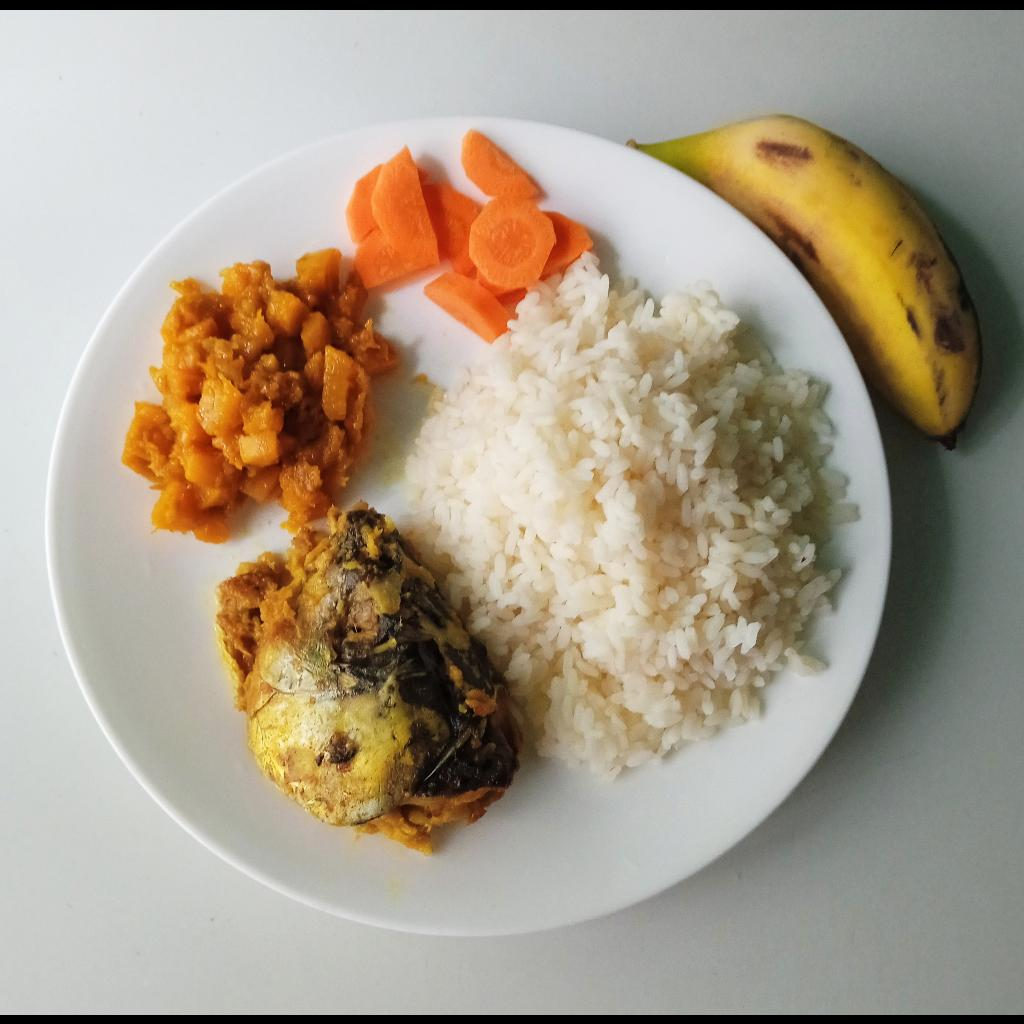banana: (625, 113, 985, 450)
carrot: (345, 125, 595, 342)
fish: (214, 499, 524, 855)
kumra-vaji: (124, 248, 399, 543)
rice: (398, 251, 848, 782)
